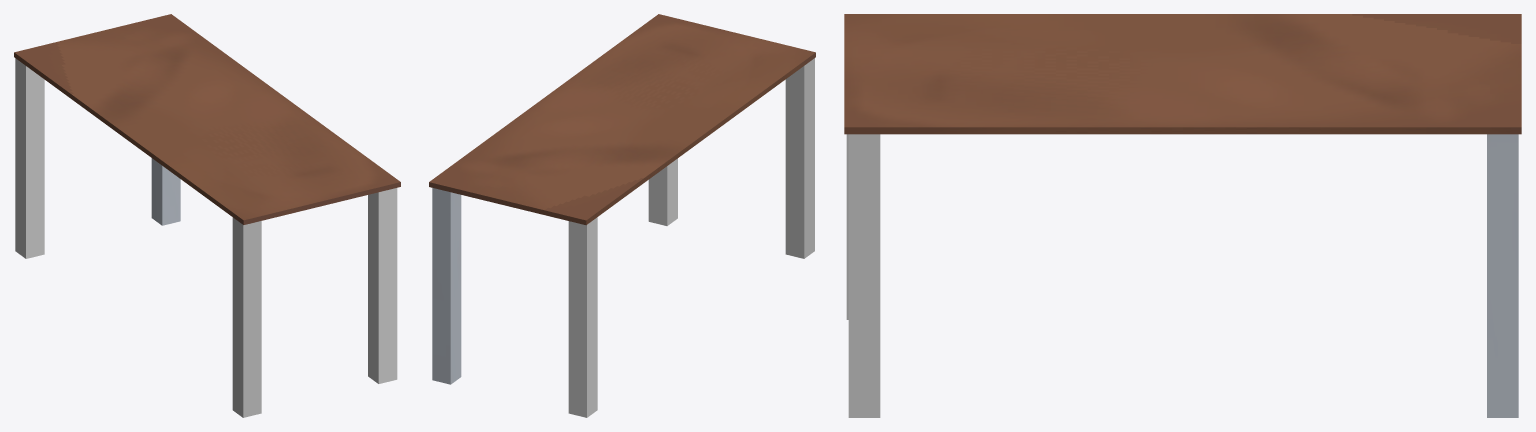
File: table_2.gltf
3 renders of one model, left to right at view 1: azimuth 30°, elevation 25°; view 2: azimuth 150°, elevation 25°; view 3: azimuth 270°, elevation 25°, orthographic. The views are drawn at different scales.
Parts seen in each view (by area): view 1: Cube.004, Cube.003, Cube, Cube.002, Cube.001; view 2: Cube.004, Cube.002, Cube.001, Cube.003, Cube; view 3: Cube.004, Cube, Cube.001.
Part boxes in pixels (left/top/right/bottom): Cube.004: left=14, top=14, right=400, bottom=224; Cube.003: left=232, top=217, right=261, bottom=417; Cube: left=368, top=188, right=397, bottom=383; Cube.002: left=15, top=58, right=44, bottom=258; Cube.001: left=151, top=158, right=180, bottom=225; Cube.004: left=429, top=14, right=815, bottom=225; Cube.002: left=568, top=217, right=597, bottom=417; Cube.001: left=432, top=188, right=461, bottom=384; Cube.003: left=785, top=58, right=814, bottom=258; Cube: left=648, top=158, right=677, bottom=225; Cube.004: left=844, top=14, right=1521, bottom=134; Cube: left=848, top=134, right=880, bottom=417; Cube.001: left=1487, top=134, right=1518, bottom=417.
Bounding box in the file's own units: 3.4 × 4.1 × 8.6.
